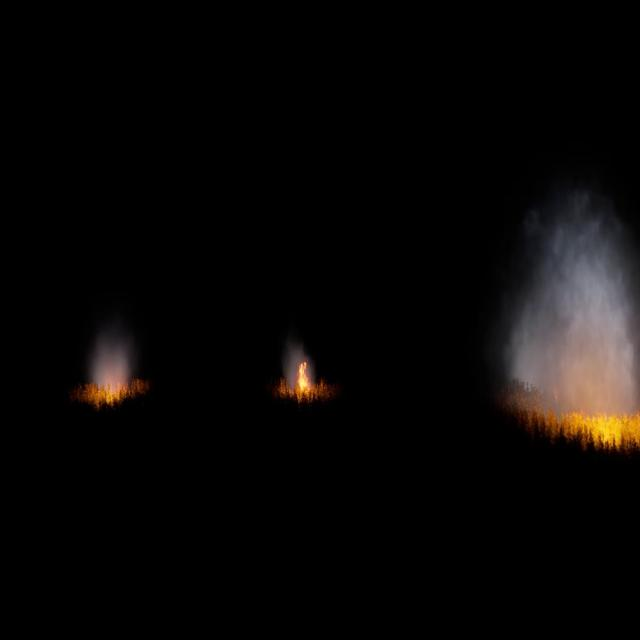fire: (536, 394, 640, 457), (296, 361, 312, 397)
smoke: (504, 182, 640, 434), (89, 329, 133, 391), (281, 340, 310, 388)
